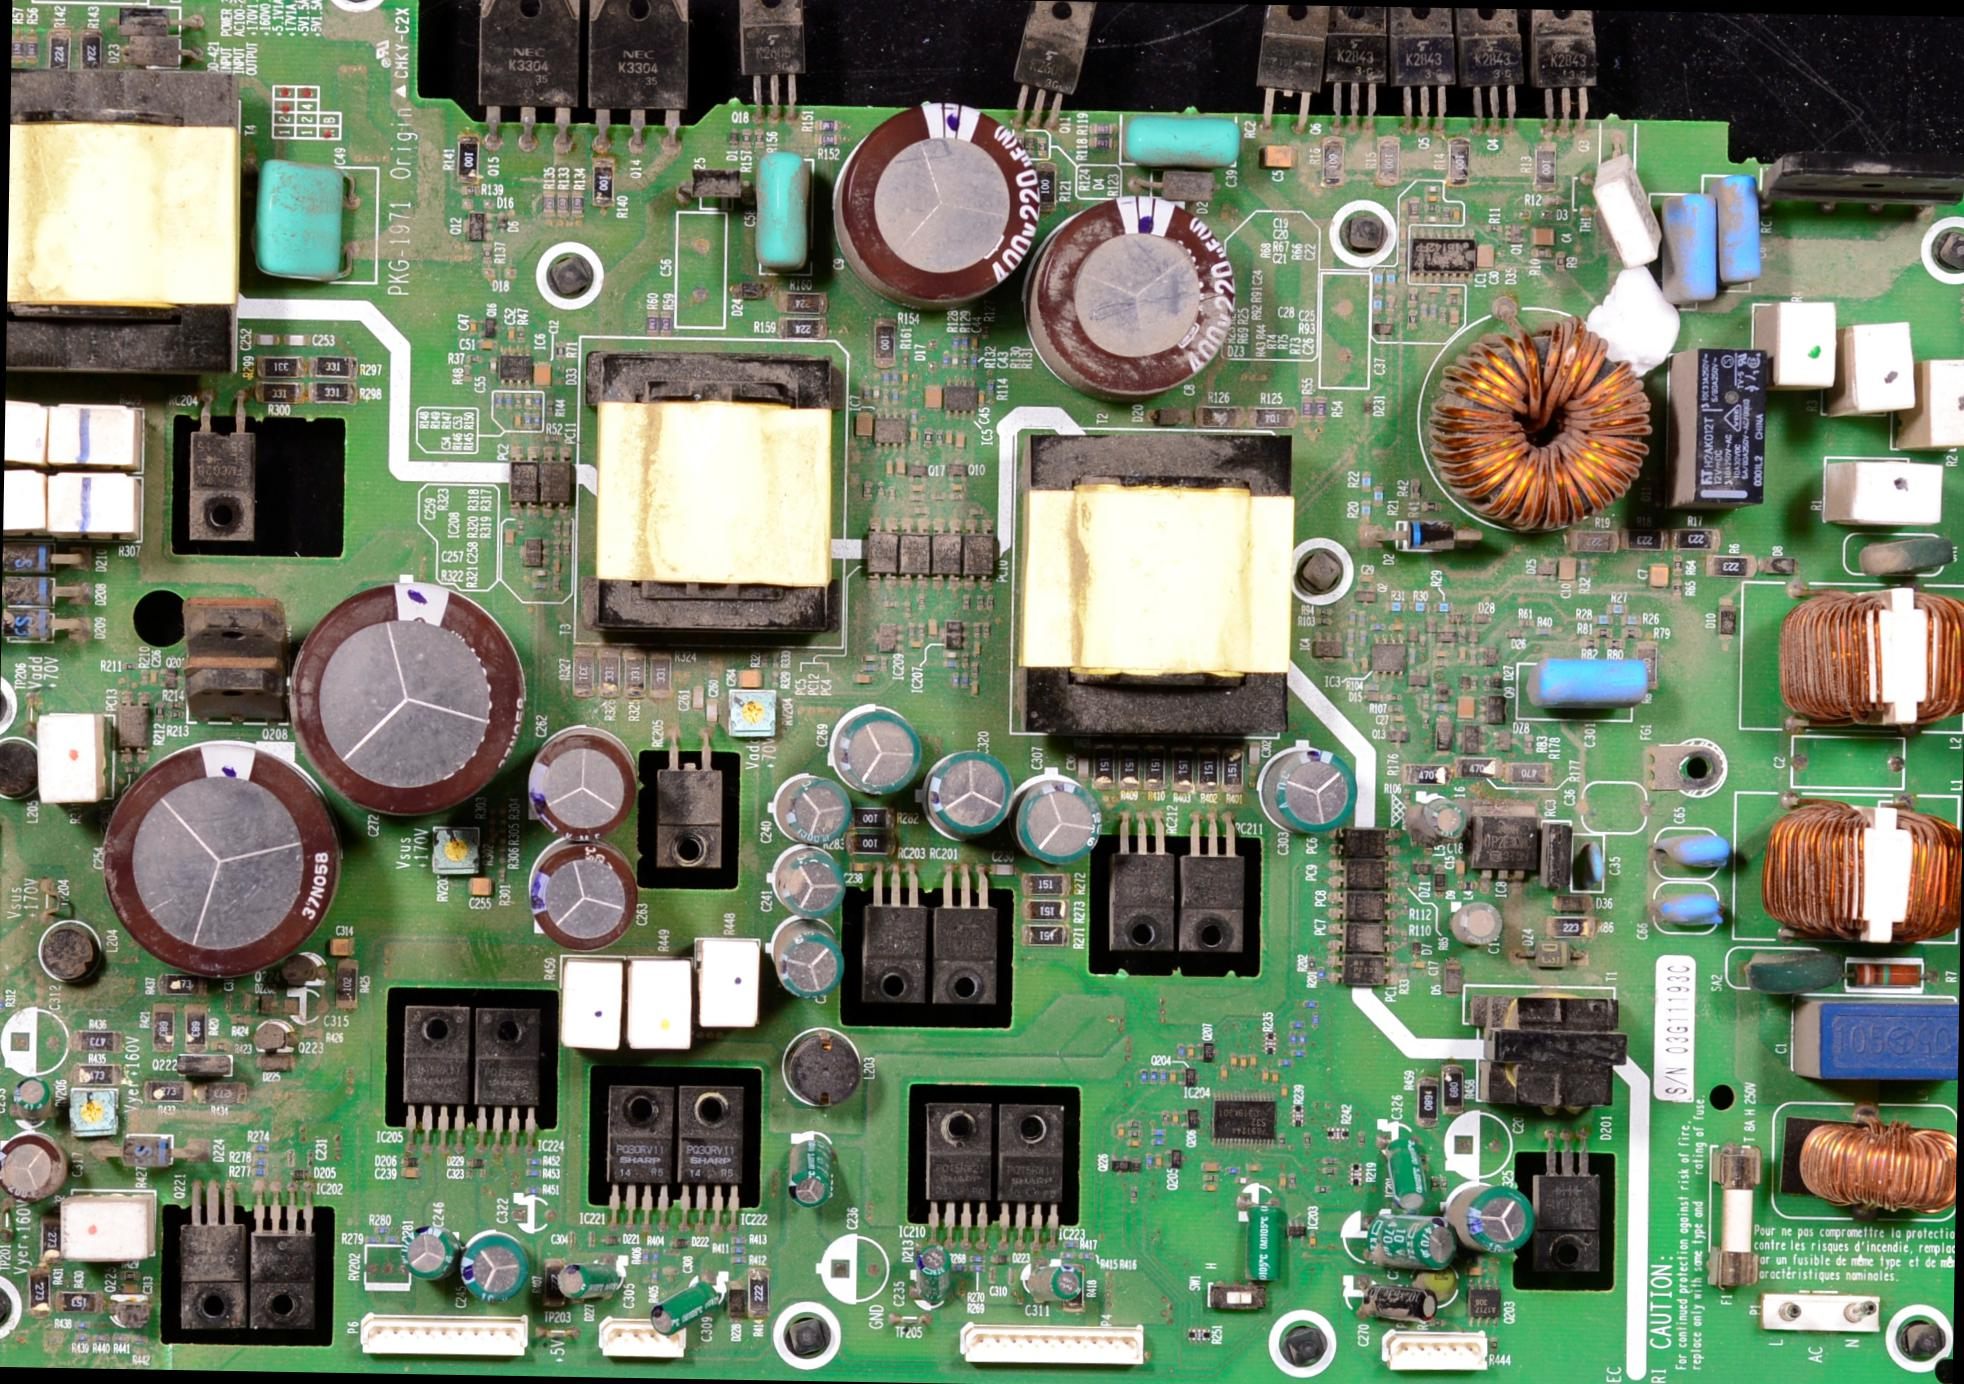Capacitor Jumper: (102, 752, 331, 978), (297, 580, 520, 804), (830, 103, 1040, 303), (1040, 187, 1218, 382), (1670, 340, 1775, 514), (252, 156, 375, 277), (1789, 998, 1958, 1084), (524, 833, 638, 947), (526, 731, 631, 833), (1264, 743, 1353, 834), (1013, 774, 1101, 864), (825, 707, 915, 794), (1657, 190, 1726, 303), (751, 147, 810, 274), (1700, 171, 1765, 289), (1516, 661, 1643, 714), (1124, 112, 1242, 168), (926, 755, 1007, 830), (770, 842, 842, 921), (1450, 1186, 1536, 1251), (457, 1227, 527, 1305), (776, 777, 851, 846), (776, 921, 840, 1001), (0, 1129, 64, 1206), (1371, 1210, 1450, 1270), (1407, 226, 1479, 286), (782, 1126, 833, 1210), (1242, 1204, 1293, 1287), (649, 1284, 721, 1341), (1383, 1138, 1431, 1218), (1369, 1284, 1441, 1330), (1657, 833, 1723, 879), (562, 1261, 629, 1306), (398, 1225, 455, 1278), (1652, 891, 1726, 932), (1020, 1263, 1080, 1308), (912, 1245, 953, 1305), (1419, 797, 1468, 845), (1453, 903, 1504, 948), (13, 1075, 55, 1120), (1573, 837, 1604, 896), (1414, 1263, 1455, 1299), (327, 929, 360, 962), (918, 382, 947, 415), (463, 873, 496, 900), (530, 352, 550, 391), (851, 409, 873, 436), (1557, 556, 1576, 583), (1455, 696, 1476, 720), (497, 526, 515, 553), (1646, 565, 1667, 587), (1405, 935, 1423, 959), (1410, 957, 1431, 974), (398, 1168, 421, 1179), (1357, 571, 1372, 586)
IC: (992, 1102, 1073, 1258), (469, 996, 547, 1152), (921, 1095, 1001, 1246), (395, 1001, 470, 1126), (599, 1077, 670, 1209), (676, 1080, 740, 1222), (1468, 807, 1536, 881), (1206, 1090, 1278, 1144), (1363, 634, 1405, 680), (870, 406, 909, 455), (494, 345, 535, 391), (947, 379, 981, 421), (1309, 629, 1347, 665), (941, 620, 966, 655), (873, 620, 896, 659)
Resistor Jumper: (67, 1023, 130, 1056), (775, 286, 830, 322), (451, 130, 482, 189), (1113, 744, 1146, 798), (592, 643, 622, 701), (742, 1266, 772, 1323), (867, 315, 899, 368), (773, 316, 834, 343), (327, 960, 361, 1008), (1020, 920, 1070, 953), (1197, 401, 1245, 434), (1318, 133, 1347, 189), (1142, 746, 1169, 804), (1849, 965, 1918, 987), (1019, 897, 1076, 924), (34, 1213, 63, 1267), (845, 803, 896, 833), (843, 827, 894, 857), (565, 644, 592, 699), (1564, 533, 1622, 559), (139, 1075, 187, 1105), (647, 649, 674, 701), (70, 1059, 120, 1087), (1167, 747, 1194, 798), (1440, 1065, 1465, 1119), (1530, 142, 1557, 193), (589, 157, 616, 208), (622, 644, 644, 704), (1260, 141, 1299, 175), (1019, 872, 1068, 899), (1664, 529, 1720, 553), (1088, 747, 1118, 791), (1374, 138, 1401, 186), (258, 380, 306, 407), (1248, 404, 1296, 431), (1624, 527, 1672, 554), (25, 1269, 54, 1314), (52, 1290, 100, 1315), (1416, 1077, 1438, 1131), (307, 355, 352, 382), (1194, 749, 1218, 798), (148, 1005, 174, 1051), (259, 355, 306, 380), (1706, 556, 1753, 581), (309, 379, 352, 406), (1222, 746, 1245, 797), (1503, 762, 1548, 786), (48, 27, 72, 67), (187, 1007, 210, 1048), (1444, 138, 1467, 180), (1551, 915, 1589, 939), (1407, 765, 1449, 785), (1458, 756, 1497, 776), (84, 31, 100, 73), (1309, 391, 1330, 424), (1527, 226, 1555, 247), (10, 28, 25, 64), (1293, 395, 1311, 424), (646, 307, 662, 337), (659, 307, 674, 339), (569, 190, 584, 219), (541, 190, 556, 217), (556, 190, 571, 217), (22, 33, 36, 60), (1618, 613, 1645, 625), (1621, 625, 1645, 638), (1577, 638, 1601, 652), (1314, 604, 1333, 619), (1359, 499, 1371, 523), (1524, 734, 1536, 756), (1372, 484, 1384, 506), (1603, 602, 1625, 614), (1360, 469, 1371, 491), (1604, 638, 1627, 649), (1383, 692, 1402, 702), (1594, 613, 1609, 626), (1592, 628, 1610, 638), (1314, 616, 1330, 626), (1386, 704, 1402, 713), (154, 699, 163, 716)
Transistor: (577, 0, 689, 153), (472, 0, 583, 142), (1251, 4, 1327, 135), (1531, 9, 1601, 150), (731, 0, 807, 127), (1324, 6, 1392, 148), (1452, 7, 1518, 147), (1387, 7, 1455, 133), (1016, 21, 1085, 136), (1459, 1276, 1506, 1329), (457, 213, 490, 246), (1459, 720, 1488, 756), (941, 460, 971, 488), (1480, 693, 1504, 723), (1404, 668, 1434, 689), (902, 458, 926, 484), (1384, 725, 1411, 743)
